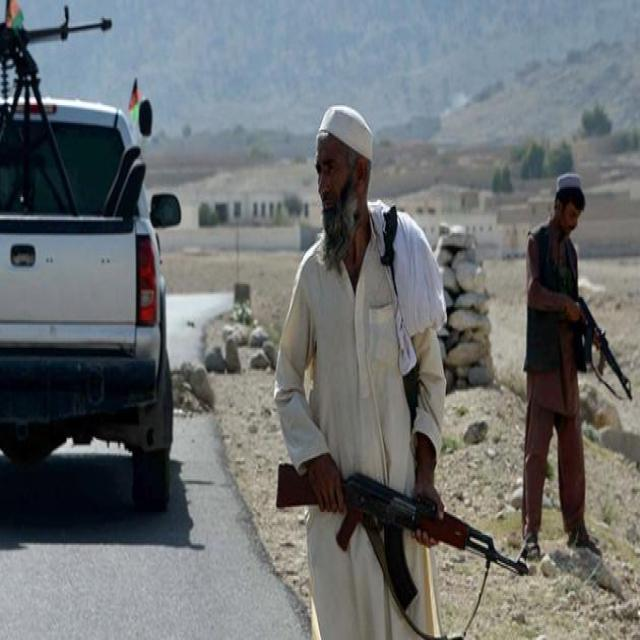Militant: (262, 79, 471, 640), (504, 150, 639, 597)
